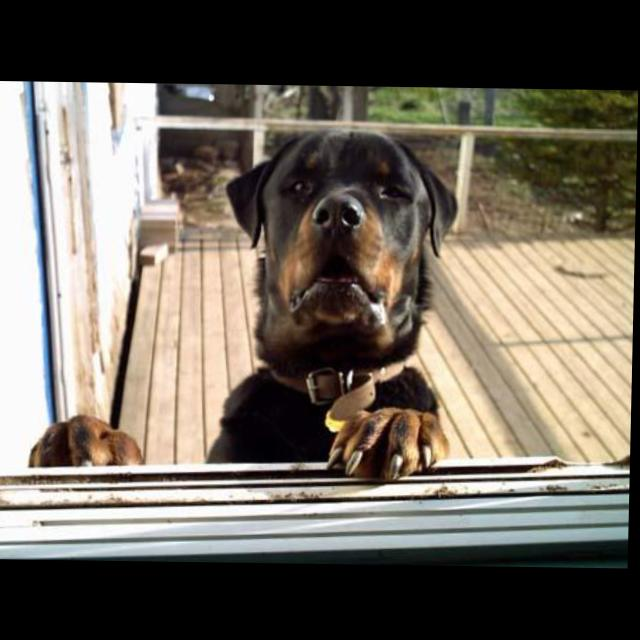rottweiler: (32, 127, 461, 482)
